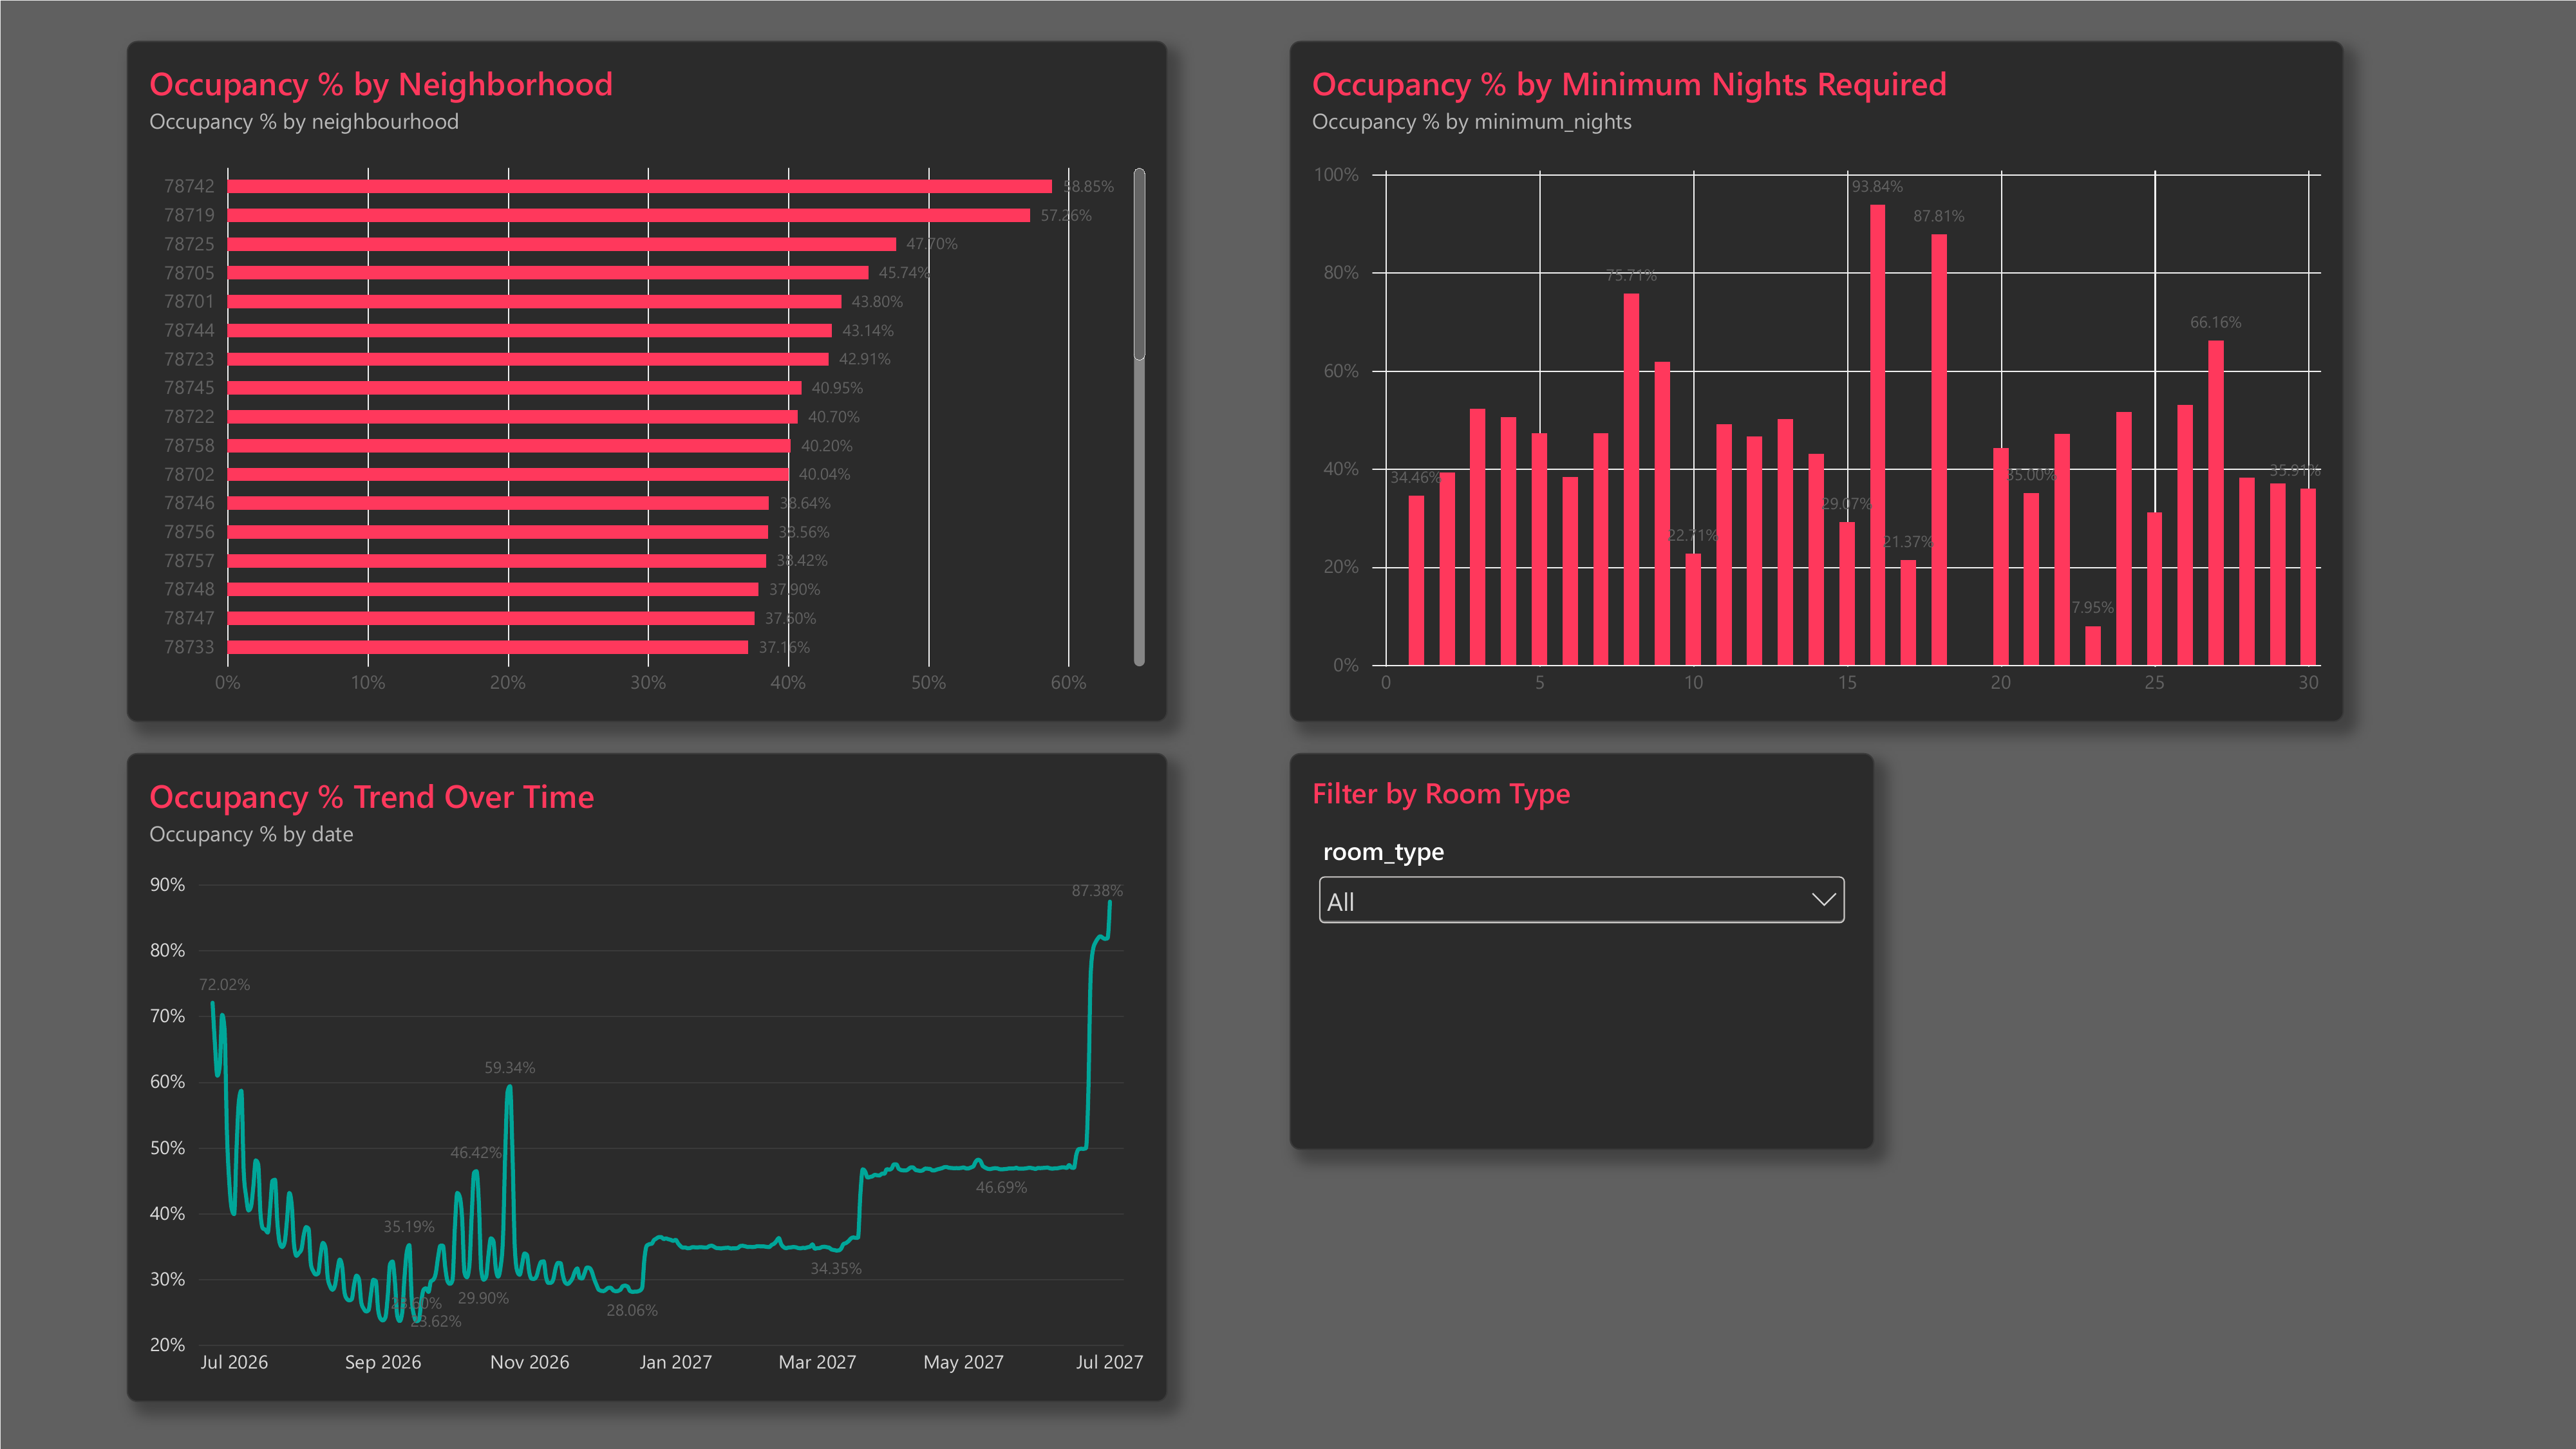

The page's visual inventory and layout, read from the dashboard file:
{"tool":"powerbi","page":{"name":"Occupancy Analysis","canvas":[1920,1080],"ordinal":2},"visuals":[{"type":"clusteredBarChart","title":"Occupancy % by Neighborhood","fields":{"Category":["public listings_clean.neighbourhood"],"Y":["public calendar_clean.Occupancy %"]},"box":[94.5,30.4,776,507.9],"z":0},{"type":"lineChart","title":"Occupancy % Trend Over Time","fields":{"Category":["public calendar_clean.date"],"Y":["public calendar_clean.Occupancy %"]},"box":[94.5,560.6,776,484.6],"z":1000},{"type":"clusteredColumnChart","title":"Occupancy % by Minimum Nights Required","fields":{"Category":["public listings_clean.minimum_nights"],"Y":["public calendar_clean.Occupancy %"]},"box":[961.3,30.4,786,507.9],"z":2000},{"type":"slicer","title":"Filter by Room Type","fields":{"Values":["public listings_clean.room_type"]},"box":[961.3,560.6,436.1,296.8],"z":3001}]}

Visuals, with their boxes in screenshot pixels (x1, y1, x2, y2), scaled from the page's 1920x1080 canvas onto the 2576x1449 screenshot:
"Occupancy % by Neighborhood" clusteredBarChart: 127:41:1168:722
"Occupancy % Trend Over Time" lineChart: 127:752:1168:1402
"Occupancy % by Minimum Nights Required" clusteredColumnChart: 1290:41:2344:722
"Filter by Room Type" slicer: 1290:752:1875:1150
